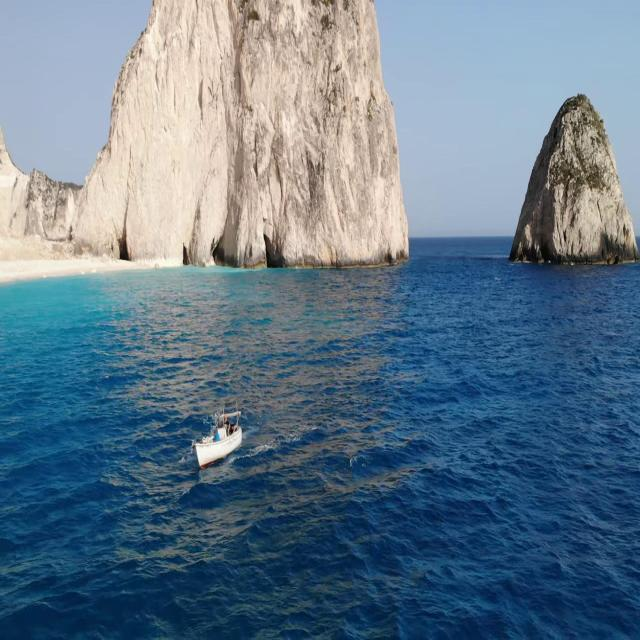boat: (182, 404, 254, 475)
